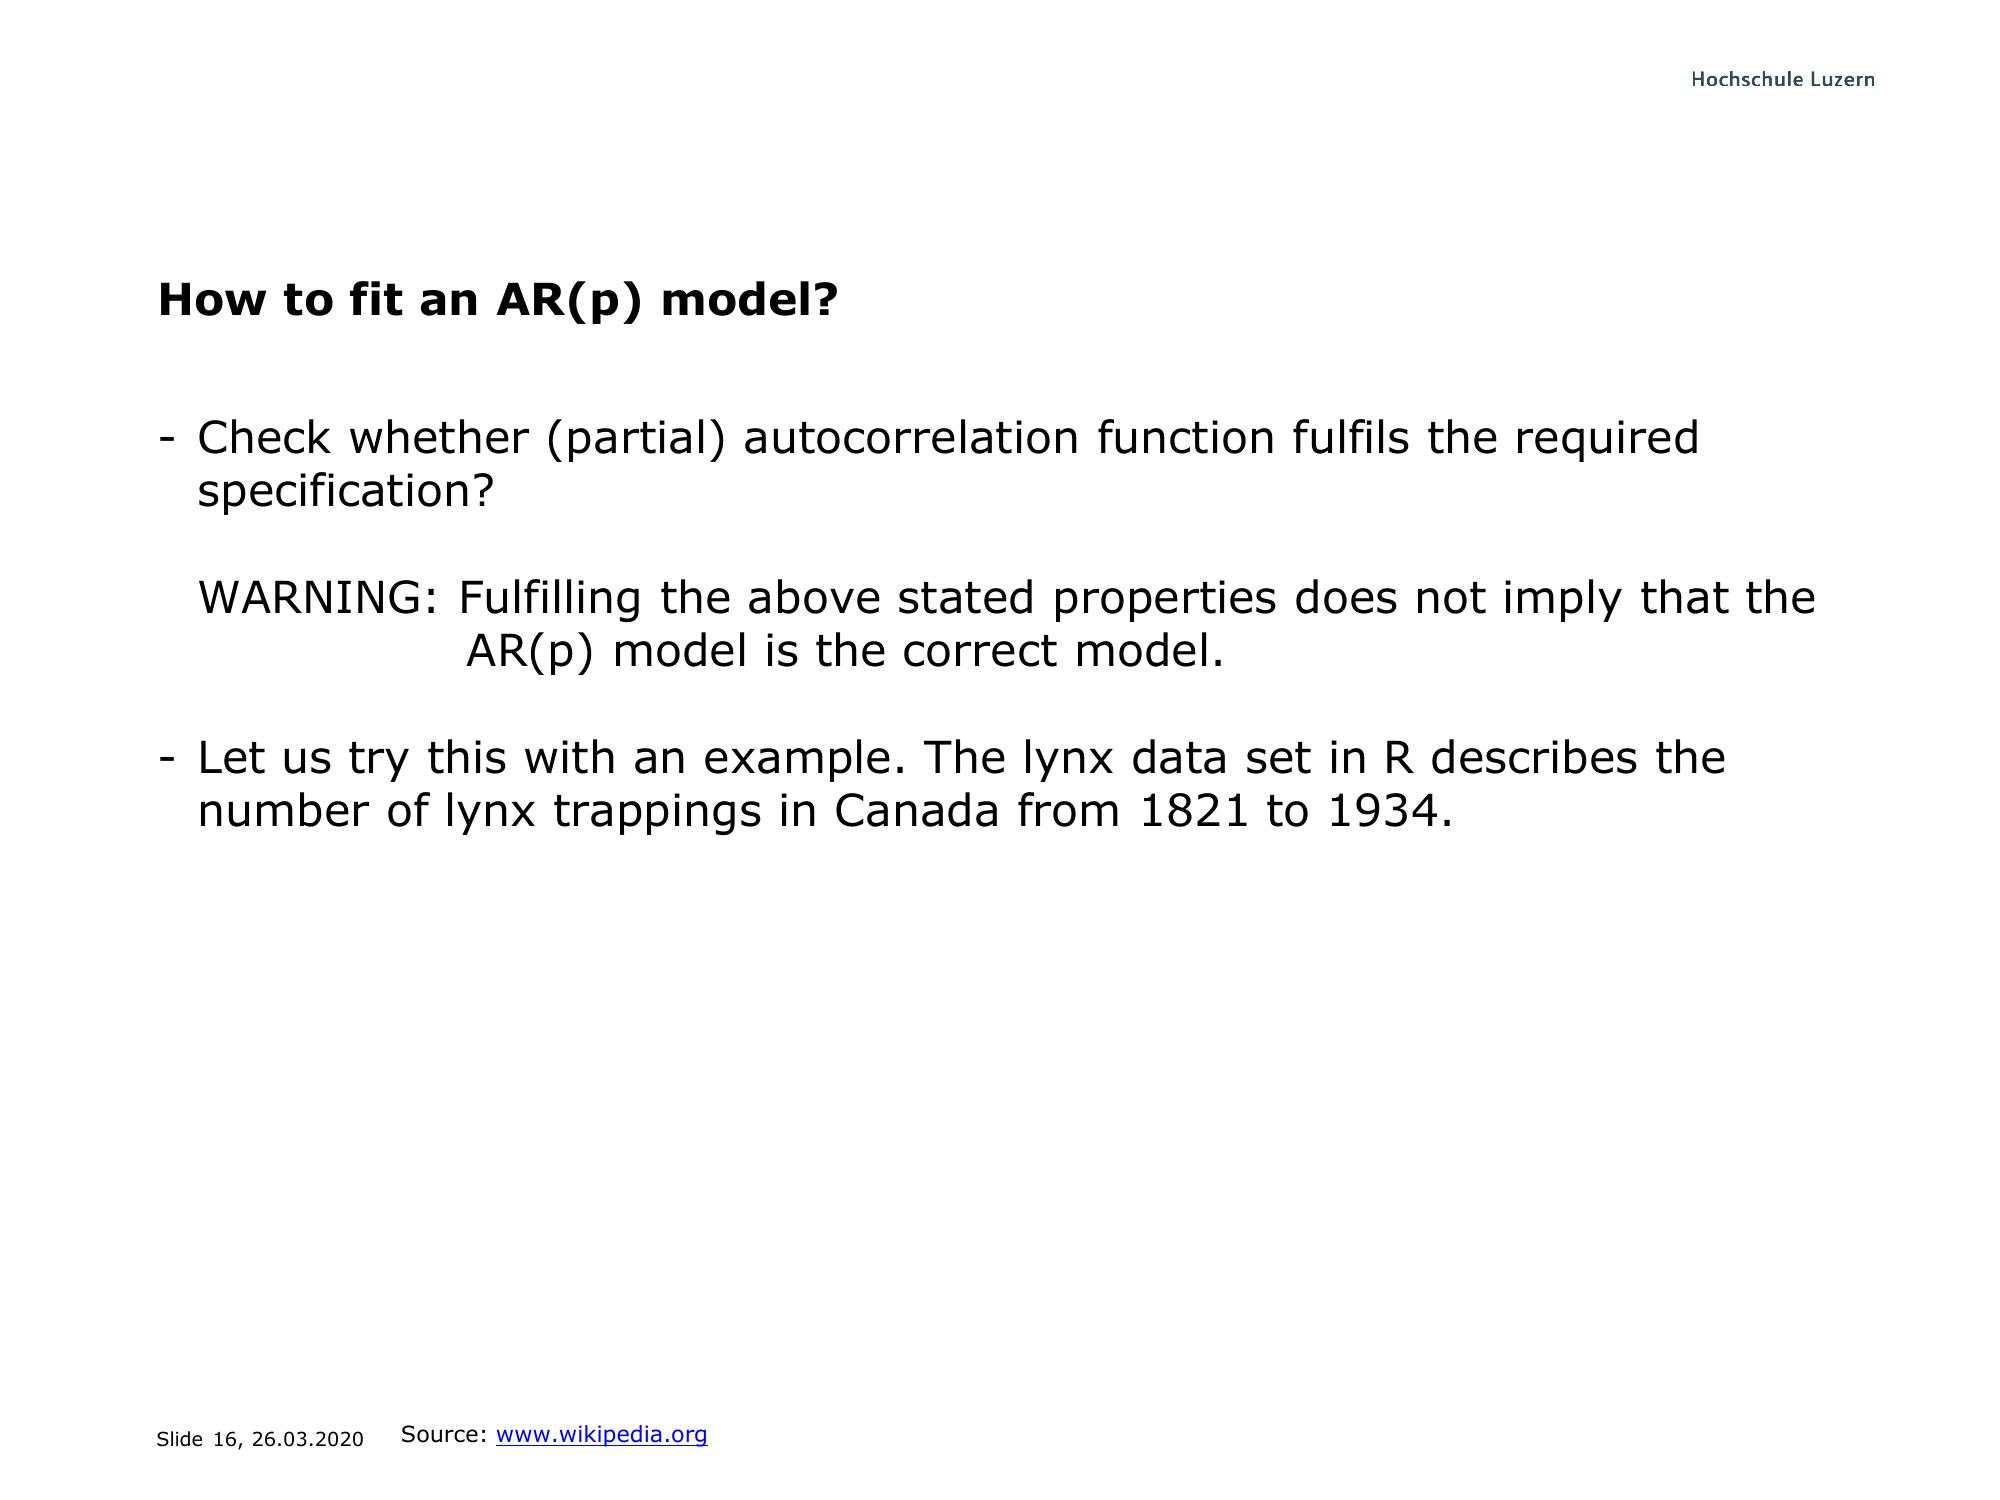Title: (143, 258, 854, 343)
